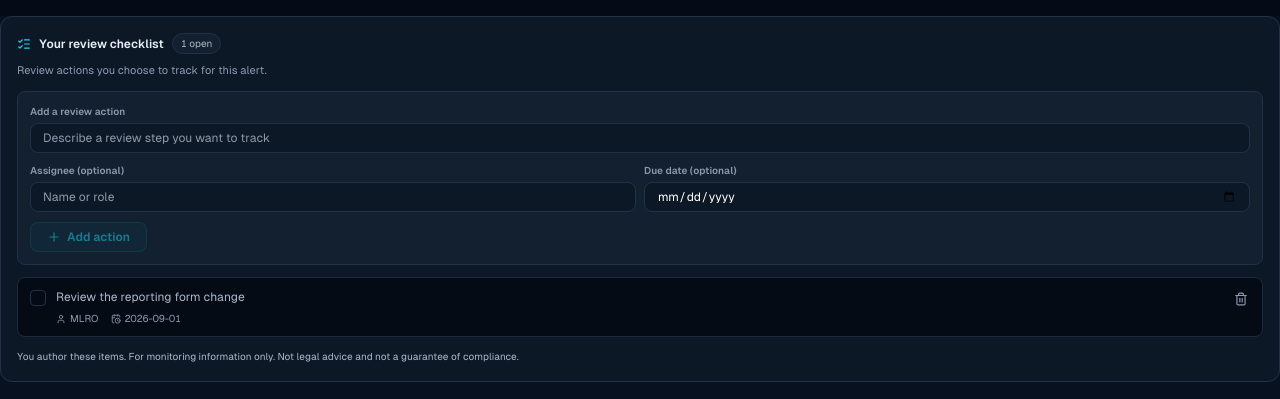
AlertChecklistPanel › deleting an item removes it from the list
The width and height of the screenshot is (1280, 399).
Click the button named "delete": [1241, 298] box [1232,290,1250,308]
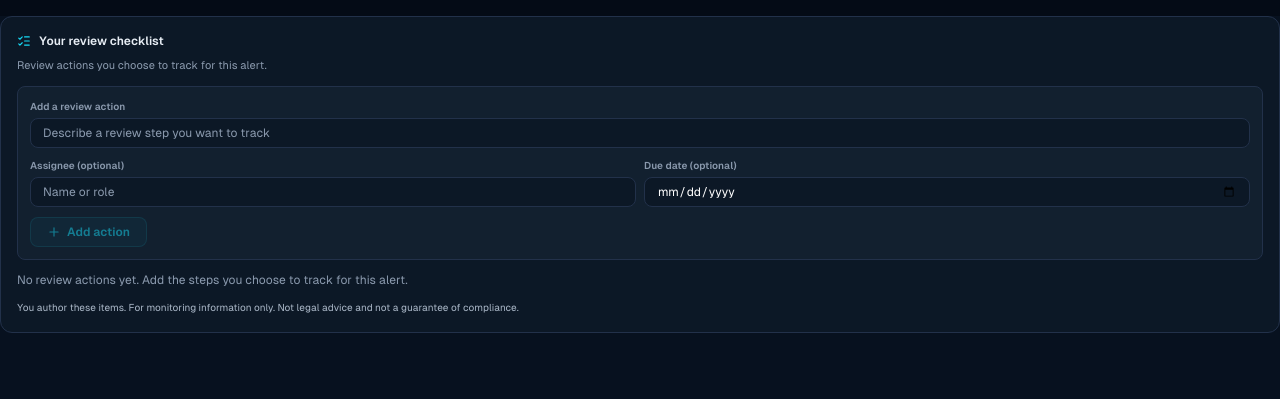
Expected: the text "Review the reporting form change" is gone
